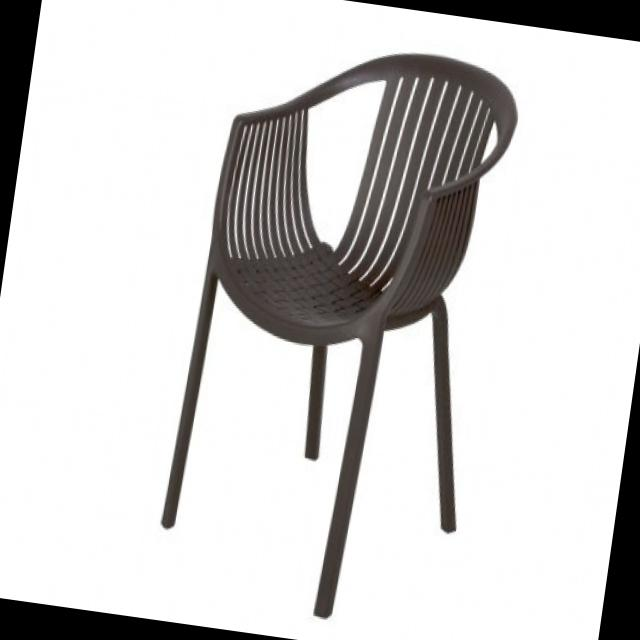Chair: (143, 21, 527, 640)
